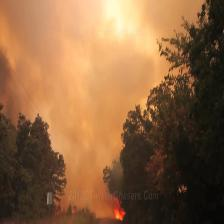fire: (111, 191, 130, 224)
